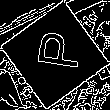P_W: (27, 33, 83, 77)
